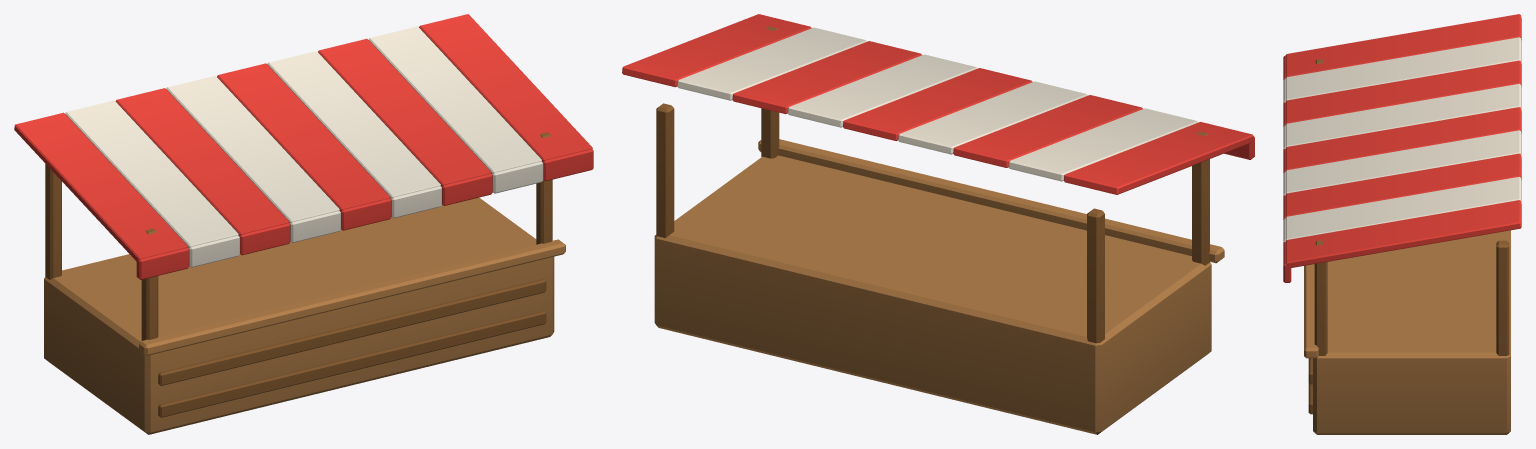
The model's file is stall.9884848e8897.glb.
3 renders of one model, left to right at view 1: azimuth 30°, elevation 25°; view 2: azimuth 150°, elevation 25°; view 3: azimuth 270°, elevation 25°, orthographic. The views are drawn at different scales.
Parts seen in each view (by area): view 1: stall_wood, stall_red, stall_cream, stall_dark; view 2: stall_wood, stall_red, stall_cream, stall_dark; view 3: stall_wood, stall_red, stall_cream, stall_dark.
Part boxes in pixels (x1,y1,x2,y2): stall_wood: [44, 197, 565, 434]; stall_red: [14, 14, 593, 279]; stall_cream: [65, 26, 543, 267]; stall_dark: [45, 132, 552, 434]; stall_wood: [654, 139, 1224, 434]; stall_red: [622, 14, 1254, 194]; stall_cream: [677, 27, 1198, 181]; stall_dark: [656, 26, 1209, 433]; stall_wood: [1304, 230, 1510, 434]; stall_red: [1283, 14, 1521, 282]; stall_cream: [1283, 37, 1521, 242]; stall_dark: [1308, 59, 1509, 414].
Size of the model in its own units: 5.99 by 3 by 2.89.
